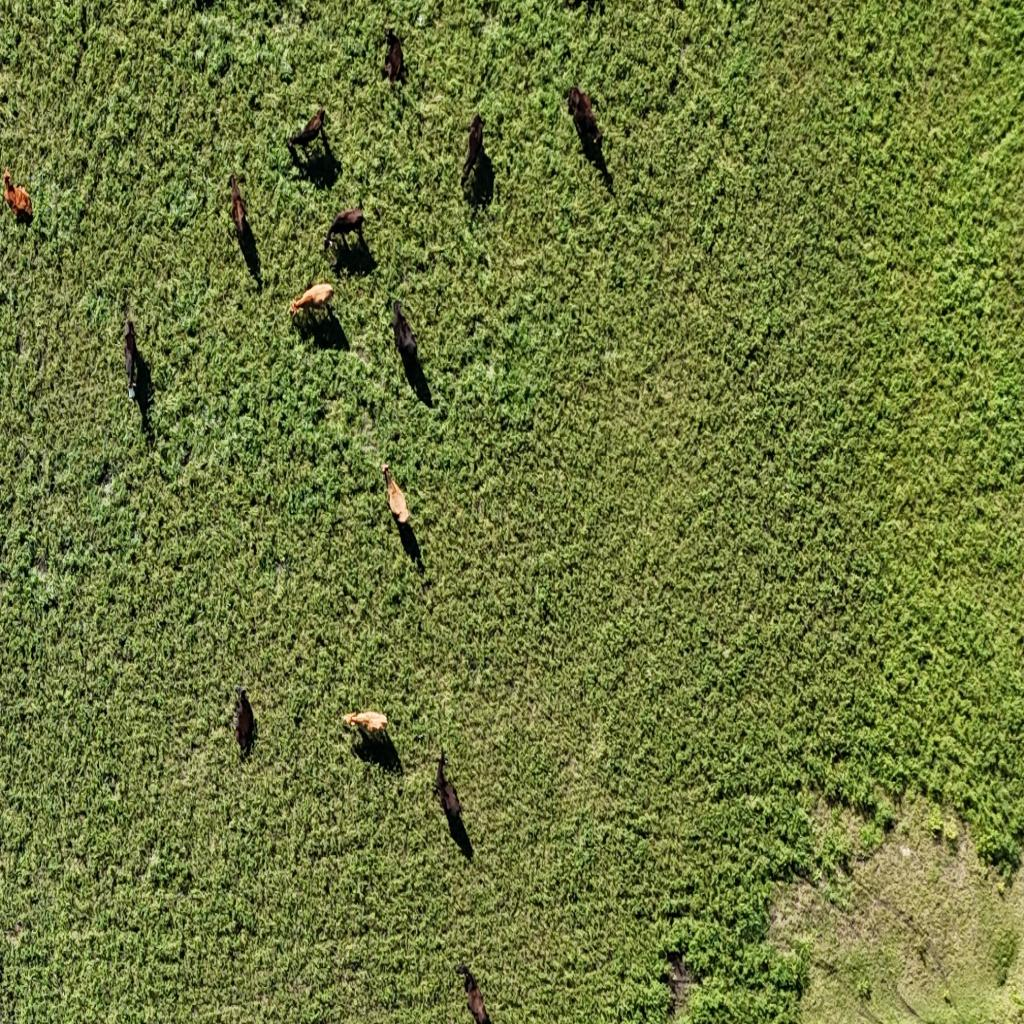cow: (349, 718, 403, 777), (392, 297, 423, 396), (433, 747, 467, 836), (377, 455, 411, 534), (290, 282, 340, 334), (324, 206, 370, 259), (455, 964, 495, 1024), (567, 83, 601, 148), (284, 107, 326, 155), (462, 114, 487, 192), (125, 321, 145, 407), (233, 682, 255, 756), (228, 174, 250, 244), (382, 26, 404, 84)
